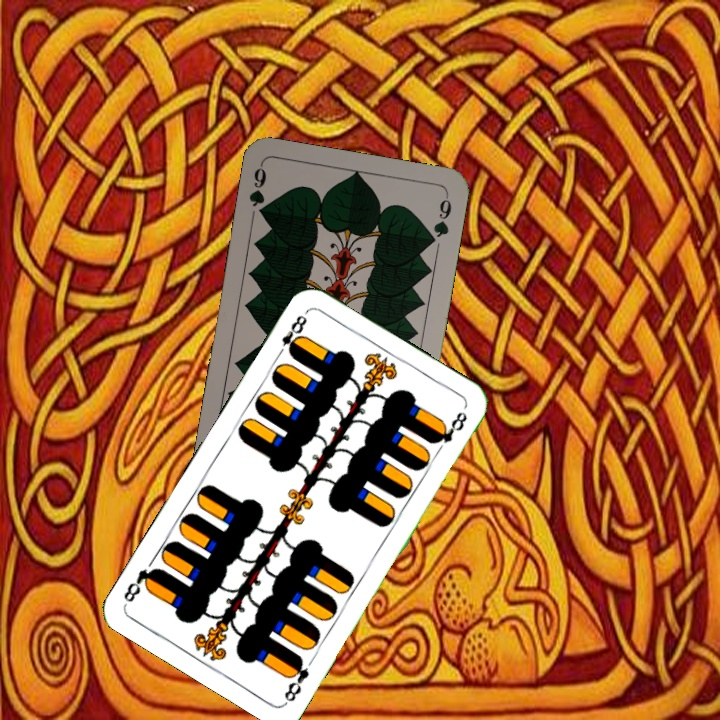E8: (273, 307, 311, 360), (280, 652, 312, 706)
G9: (245, 161, 270, 221)
